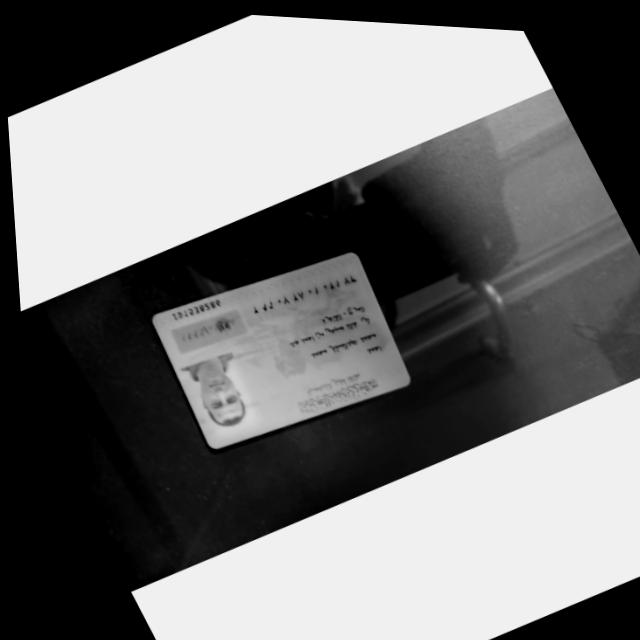id_card: (151, 252, 409, 449)
